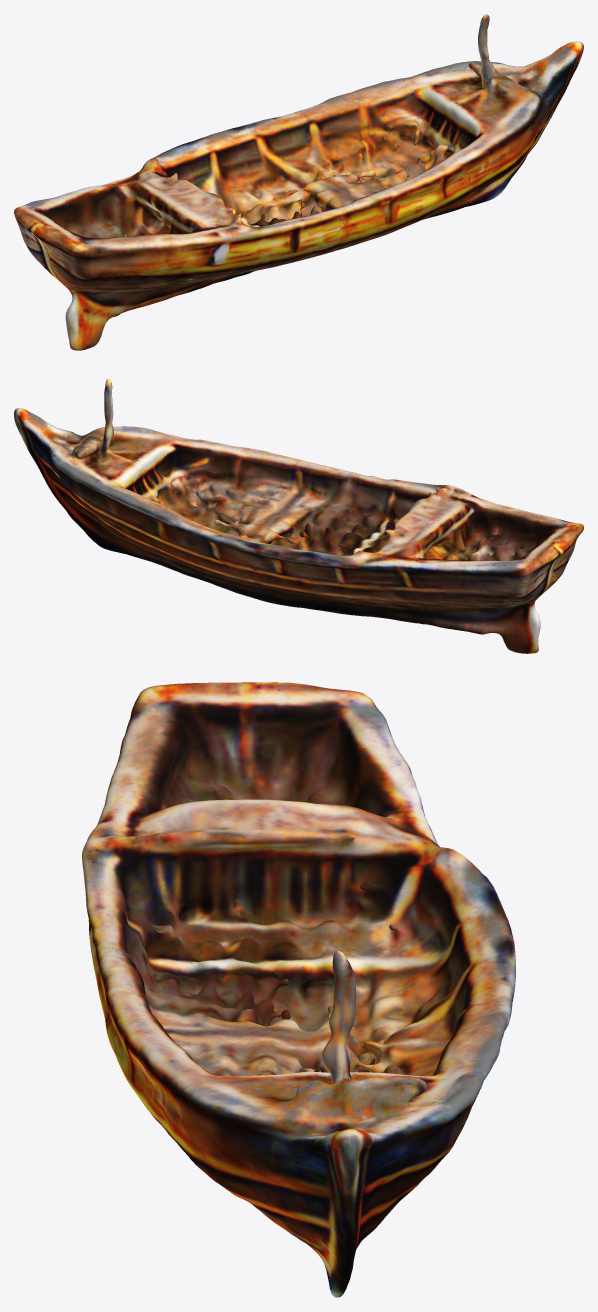
Rendered from boat_glb.glb.
3 renders of one model, top to bottom at view 1: azimuth 30°, elevation 25°; view 2: azimuth 150°, elevation 25°; view 3: azimuth 270°, elevation 25°, orthographic. The views are drawn at different scales.
Visible parts, largest first — view 1: geometry_0; view 2: geometry_0; view 3: geometry_0.
Boxes of the visible parts, x1,y1,x2,y2 form: geometry_0: (14, 14, 583, 350); geometry_0: (14, 379, 583, 653); geometry_0: (82, 682, 515, 1297).
Size of the model in its own units: 0.5893 by 0.2085 by 0.21.
1 material, 1 textured.
